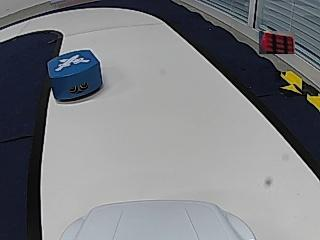spy: (55, 54, 88, 70)
